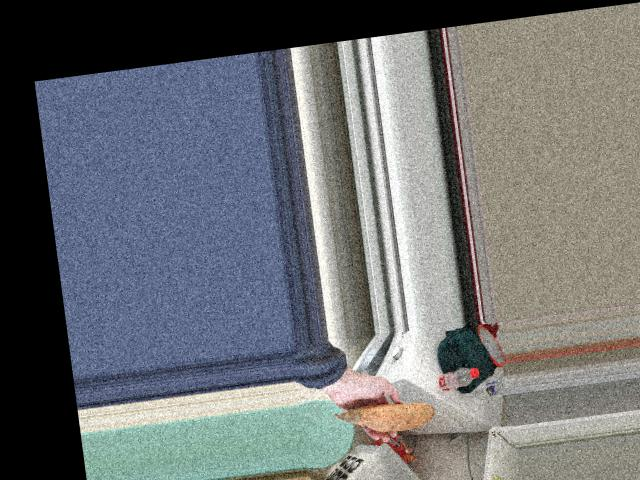sweet_potato: (338, 396, 427, 432)
